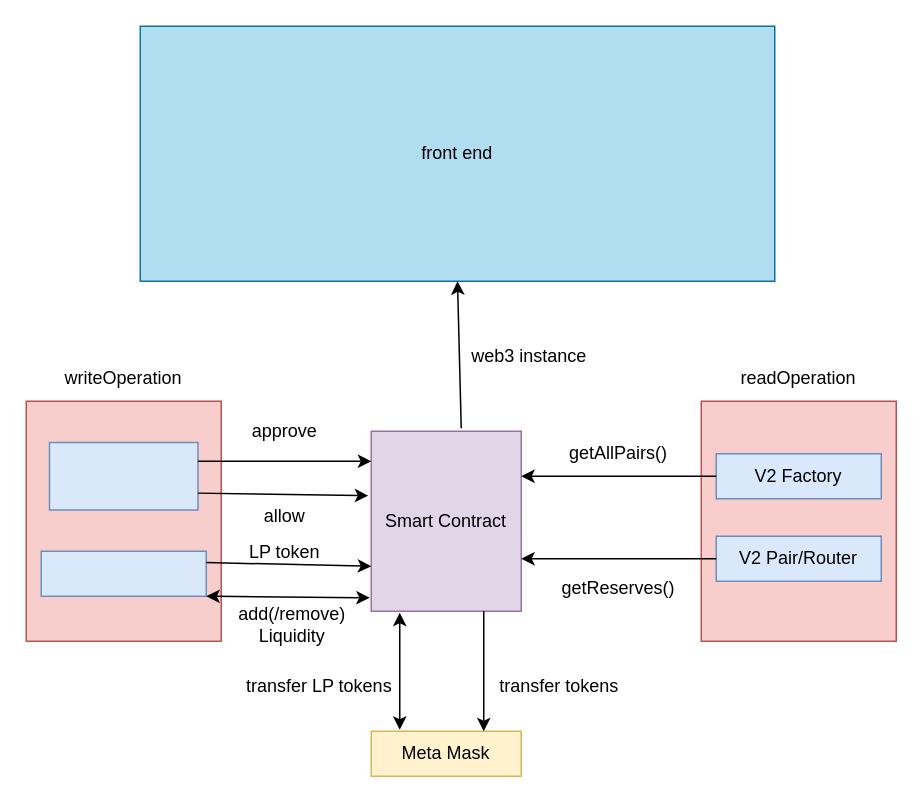
This 923x803 diagram has some shape labels left out. Each missing label, with the centre of its shape:
"IERC20" belongs at (x=123, y=475).
"Router02" belongs at (x=123, y=573).
